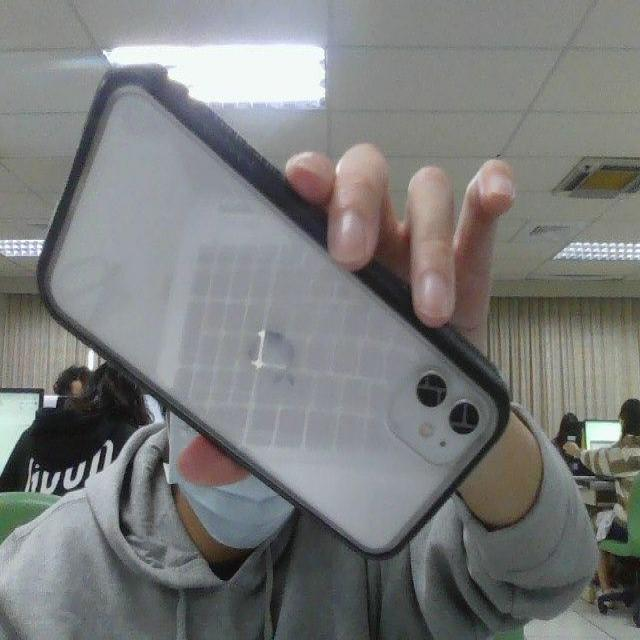ph: (24, 54, 542, 574)
